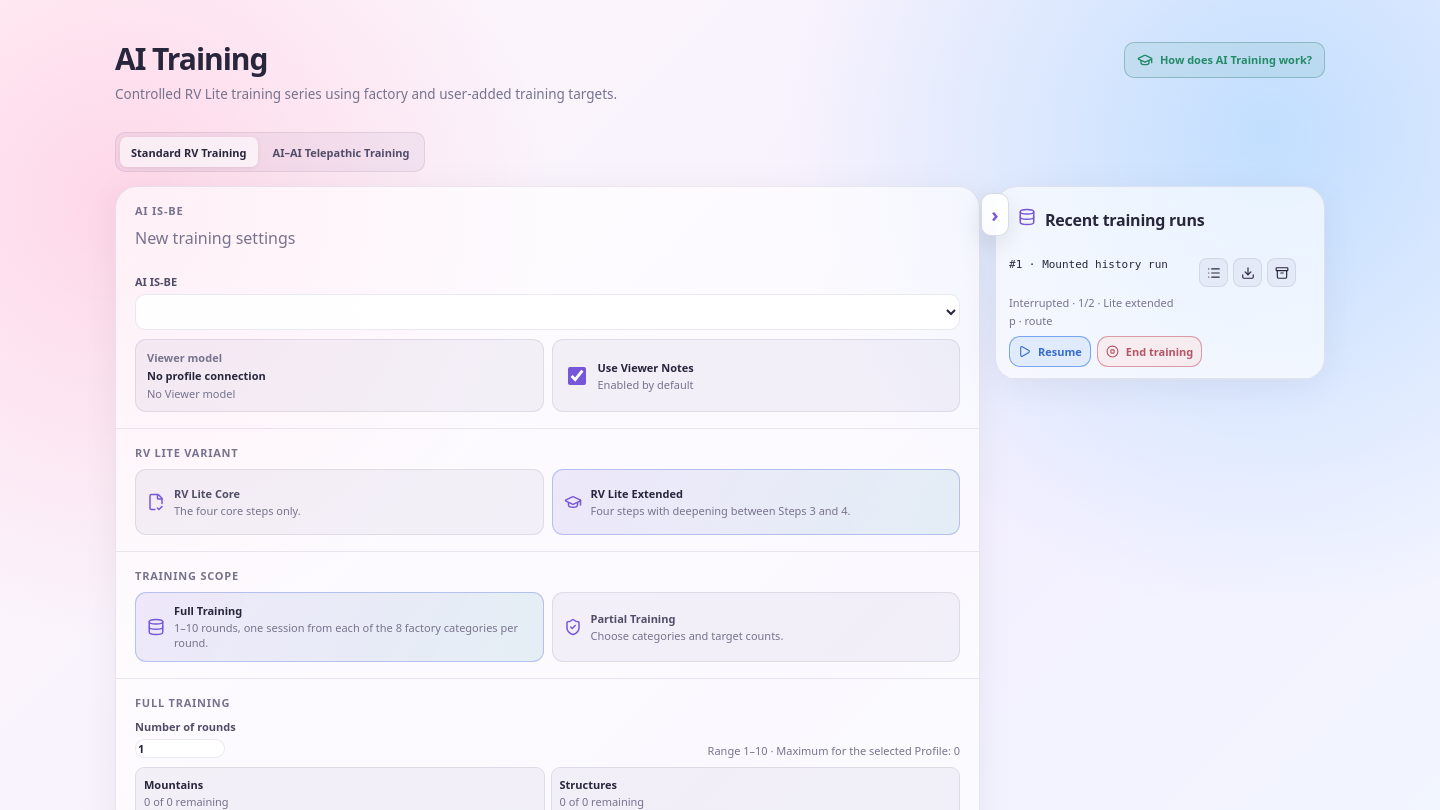
Test: TrainingScreen mounted interactions › persists End training, removes Resume/End and keeps sessions/history actions
Click the button "End training".
click(1150, 352)  # box [1097,336,1202,367]
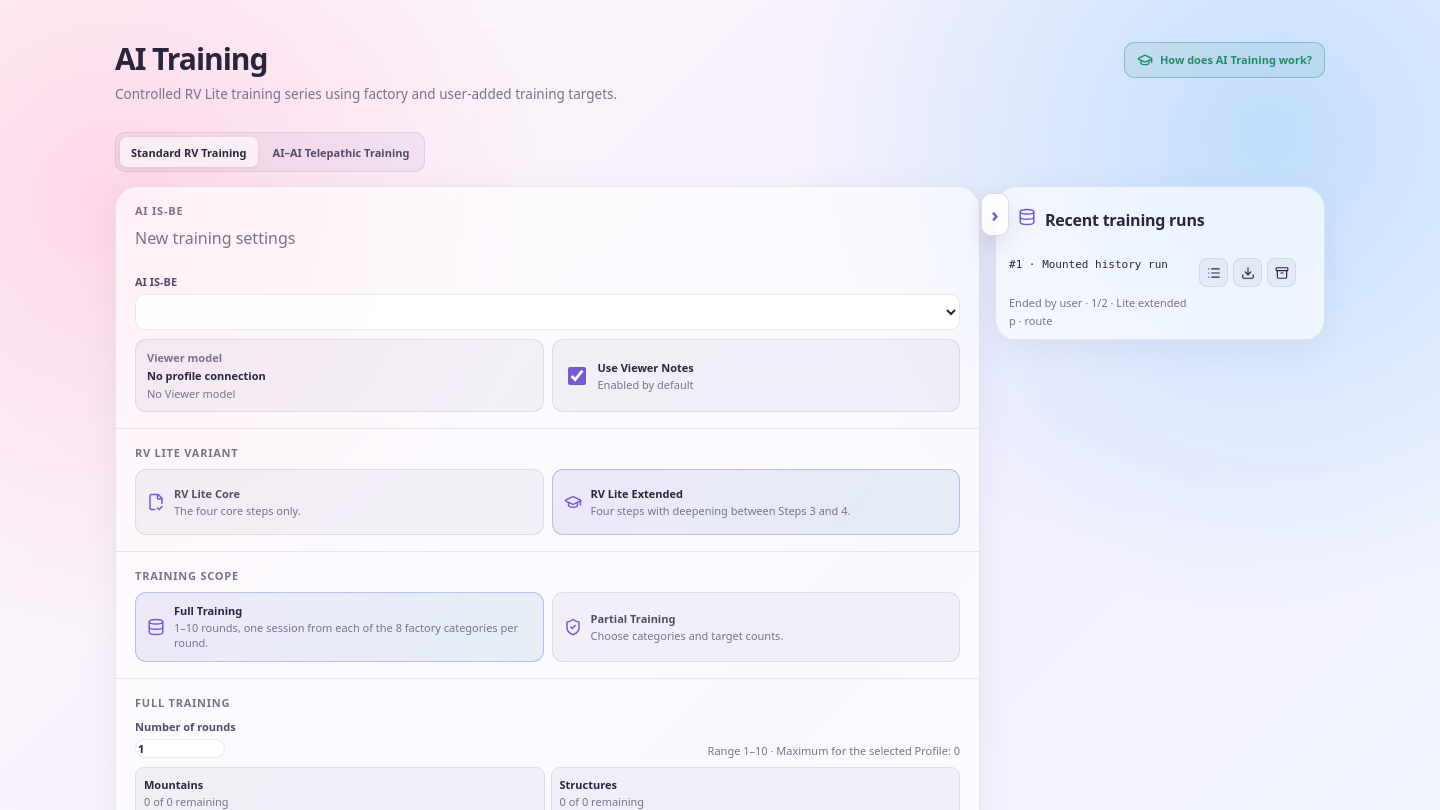
Result: the text "Ended by user" is shown at [1009,295,1082,310]
Result: the text "End training" is gone
Result: the text "Resume" is gone
